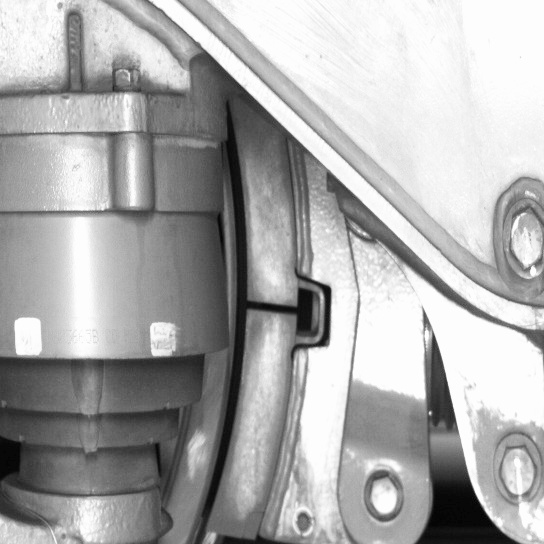KnifeSwitch: (181, 138, 309, 541)
